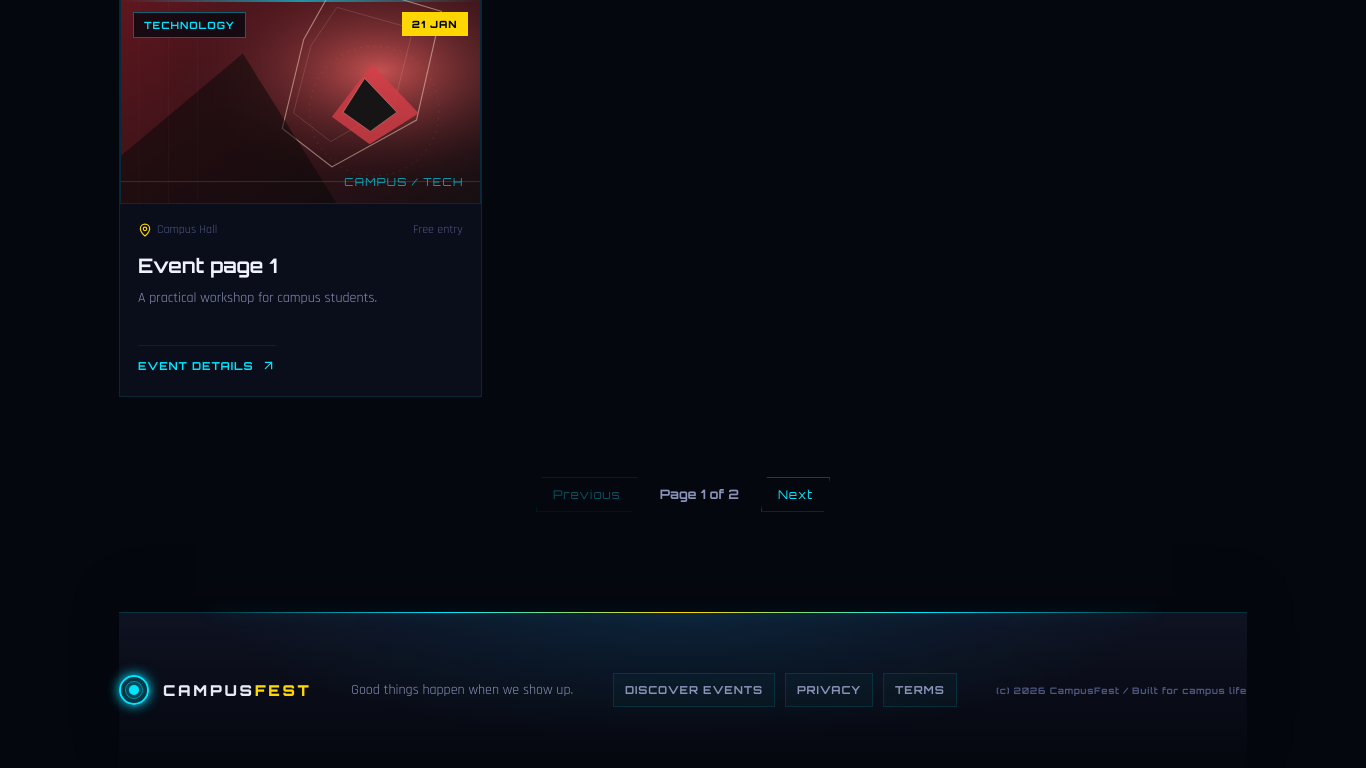
Test: CampusFest event discovery › moves to the next server-side results page
(page scrolled)
Expected: the heading "Event page 1" is shown, [138, 253, 277, 278]
Click the button "Next" at (796, 494), box [761, 477, 830, 512]
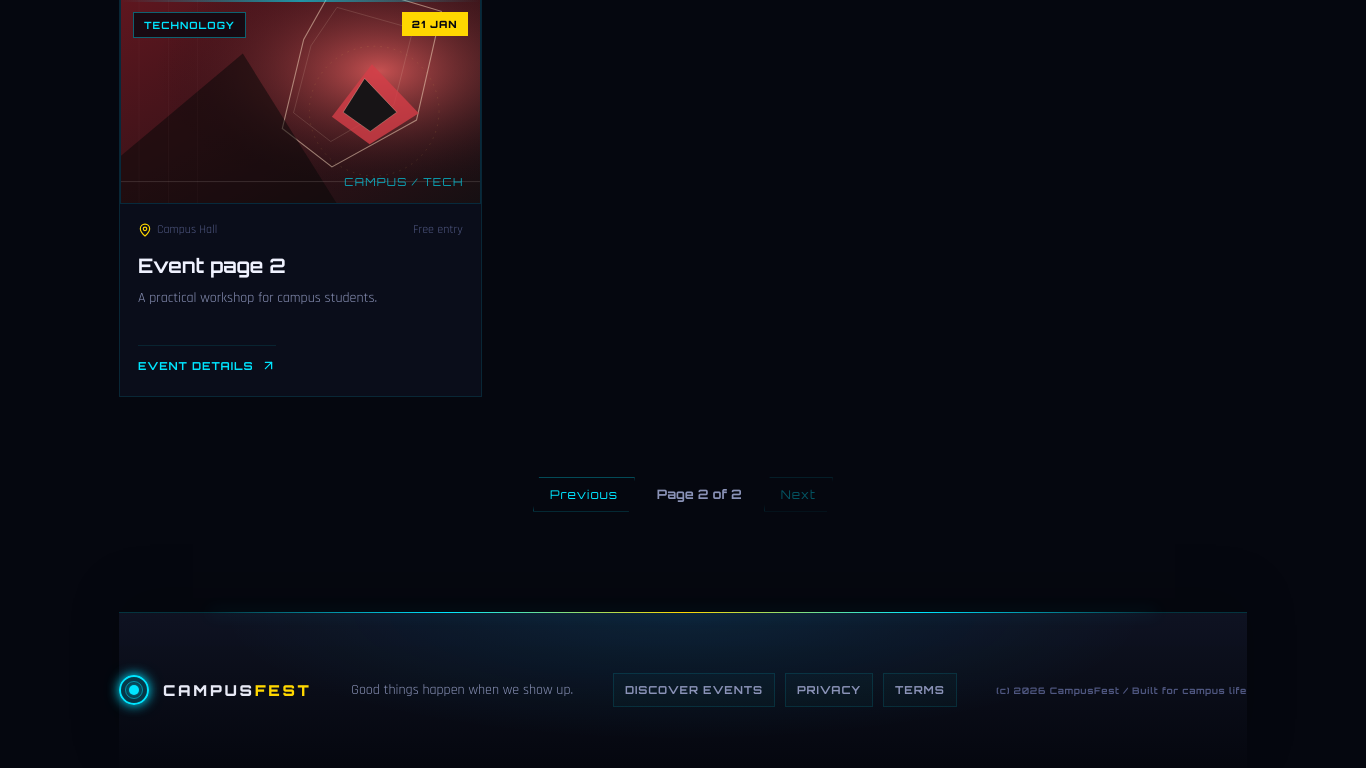
Expected: the heading "Event page 2" is shown, [138, 253, 286, 278]
